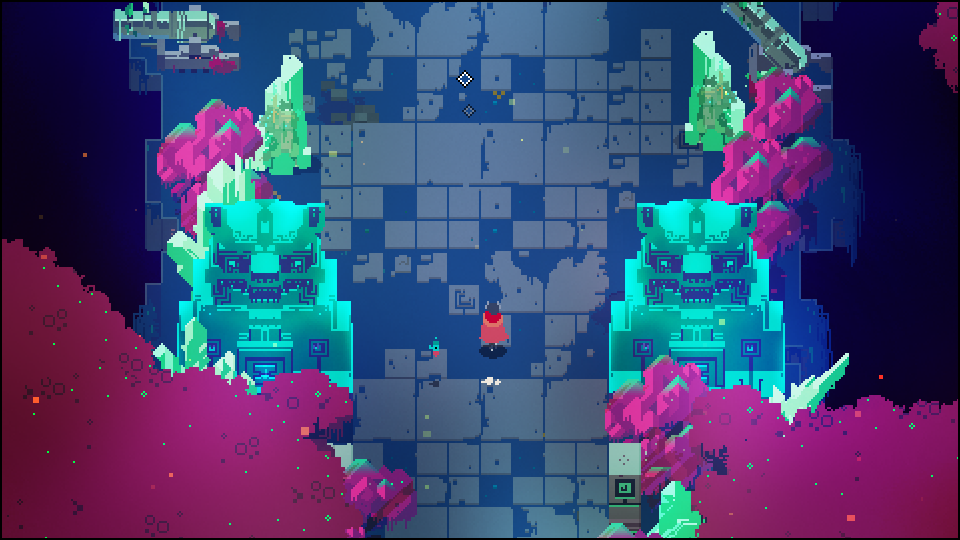player: (479, 298, 507, 354)
